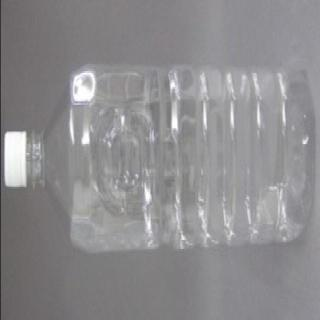Anorganik: (2, 55, 314, 263)
